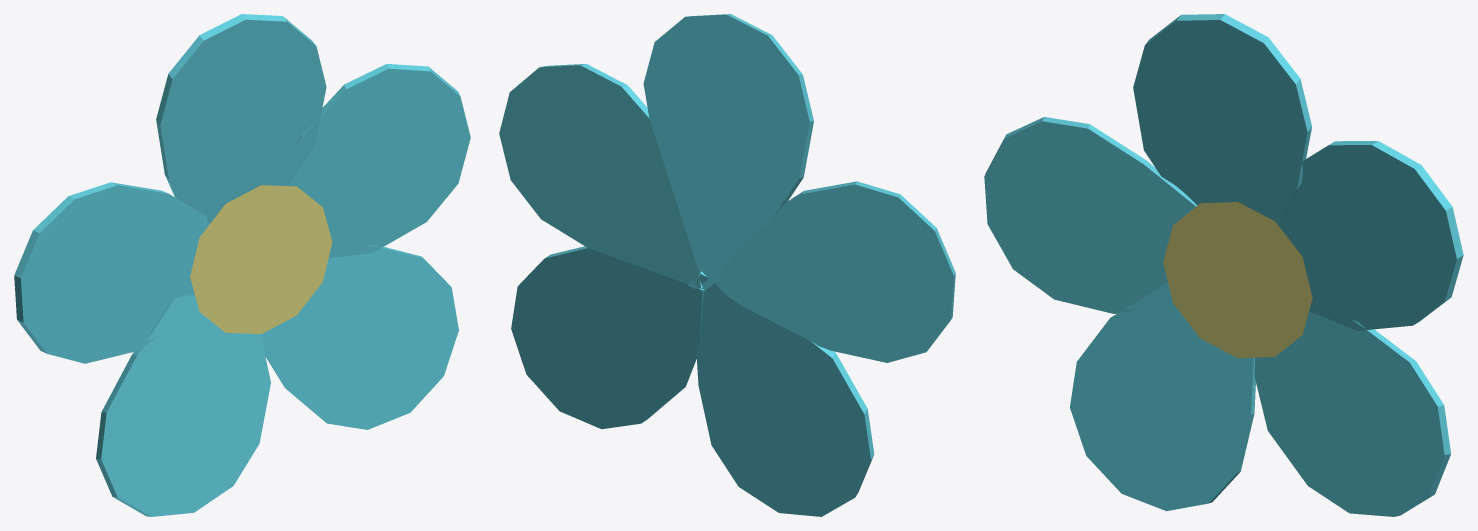
File: Flower.fbx
3 views of the same model, side by side, from view 1: azimuth 30°, elevation 25°; view 2: azimuth 150°, elevation 25°; view 3: azimuth 330°, elevation 25° (orthographic). The views are drawn at different scales.
Visible parts, largest first — view 1: 실린더; view 2: 실린더; view 3: 실린더.
Part boxes in pixels (x1=…): 실린더: x1=14, y1=14, x2=470, y2=516; 실린더: x1=499, y1=14, x2=955, y2=516; 실린더: x1=984, y1=14, x2=1463, y2=516.
Bounding box in the file's own units: 7.49 × 7.64 × 0.8247.
